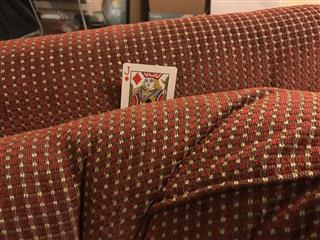JackOfDiamonds: (119, 62, 178, 108)
